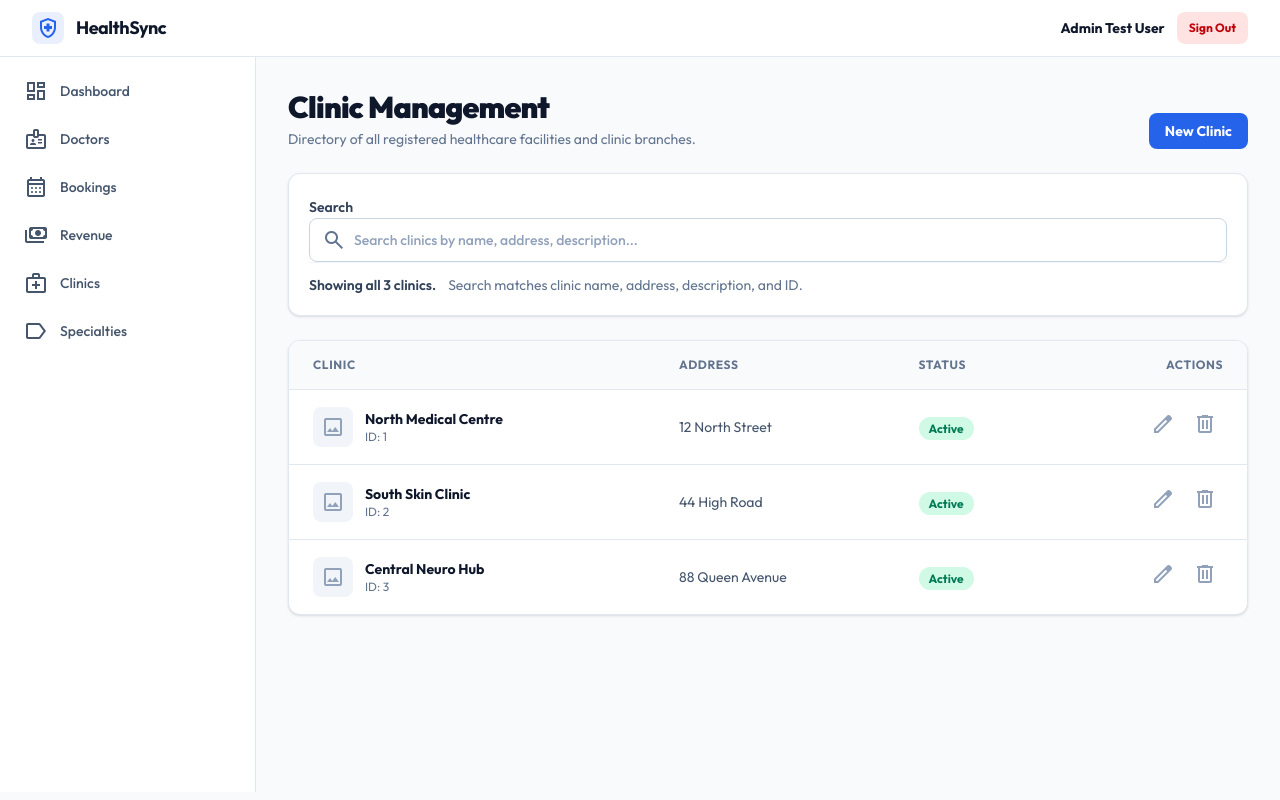
ClinicManagement page › filters clinics by the new in-page search bar
Step 1. Type "skin" into the search field with placeholder "Search clinics by name, address, description..." → (786, 240), box [346,219,1226,261]
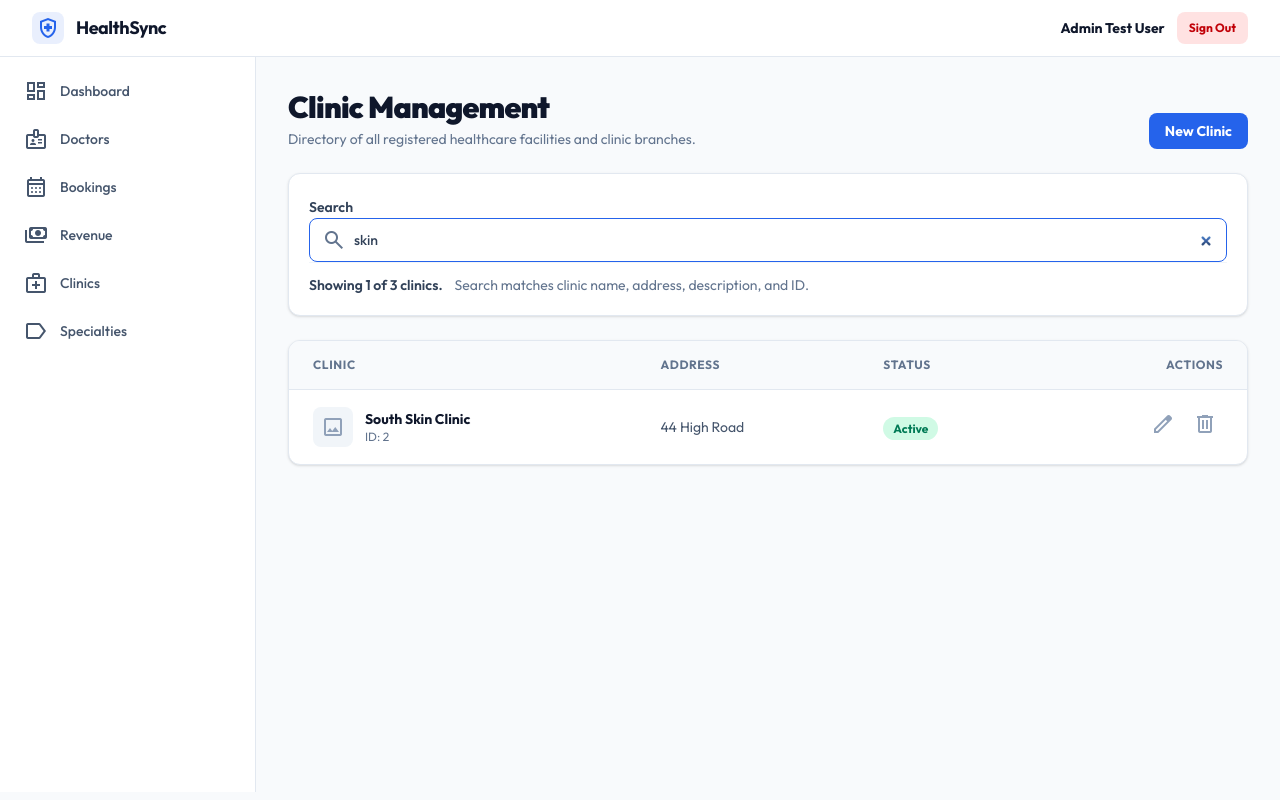
Expected: the text "Showing 1 of 3 clinics." is shown, [309,275,443,295]
Expected: the text "North Medical Centre" is gone
Expected: the text "Central Neuro Hub" is gone
